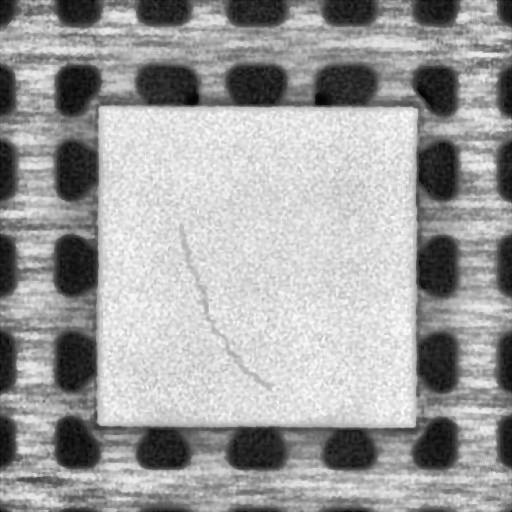DIE_CRACK: (174, 226, 272, 394)
